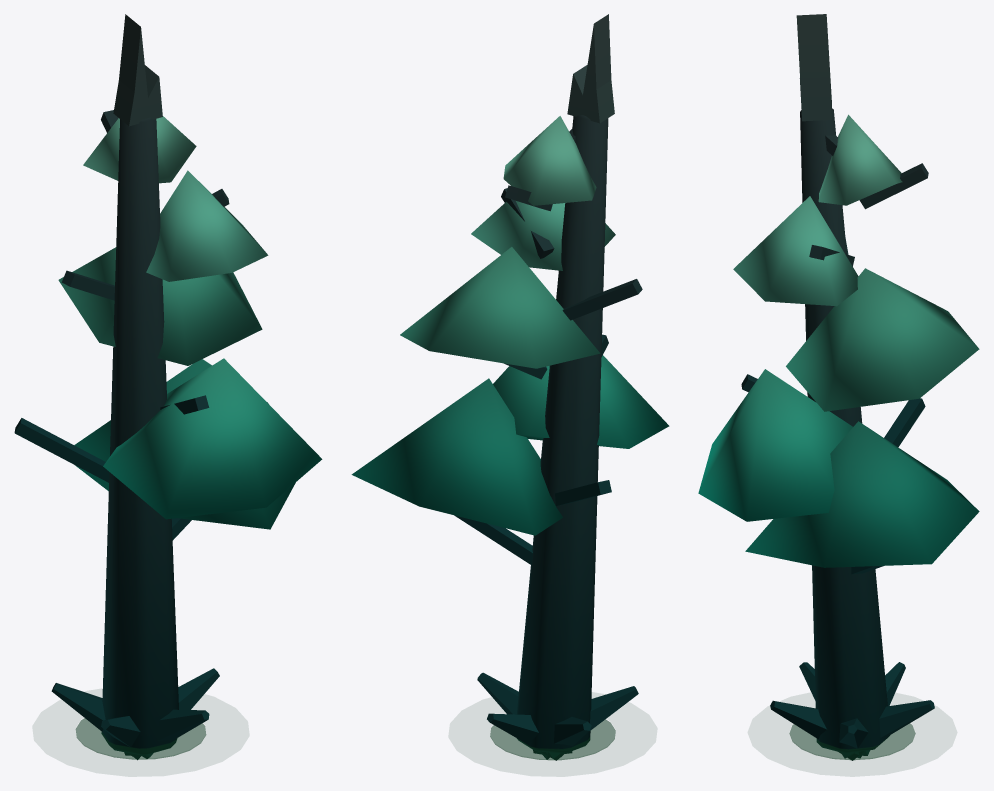
Rendered from ash_pine.glb.
3 views of the same model, side by side, from view 1: azimuth 30°, elevation 25°; view 2: azimuth 150°, elevation 25°; view 3: azimuth 270°, elevation 25° (orthographic). The views are drawn at different scales.
Visible parts, largest first — view 1: ash_pine; view 2: ash_pine; view 3: ash_pine.
Boxes of the visible parts, x1=… form: ash_pine: x1=14, y1=14, x2=322, y2=760; ash_pine: x1=351, y1=14, x2=669, y2=760; ash_pine: x1=698, y1=14, x2=979, y2=760.
Bounding box in the file's own units: 1.16 × 3.22 × 1.12.
